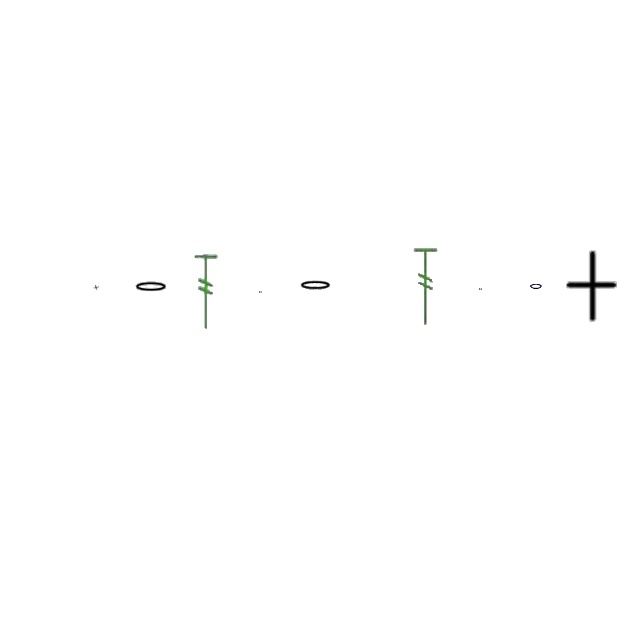chain: (133, 280, 169, 294), (298, 280, 334, 292), (529, 281, 543, 291), (260, 291, 262, 293), (480, 288, 482, 290)
double: (562, 250, 620, 324)
enseble_chain: (93, 286, 99, 290)
fan: (411, 246, 441, 328), (192, 253, 220, 331)
